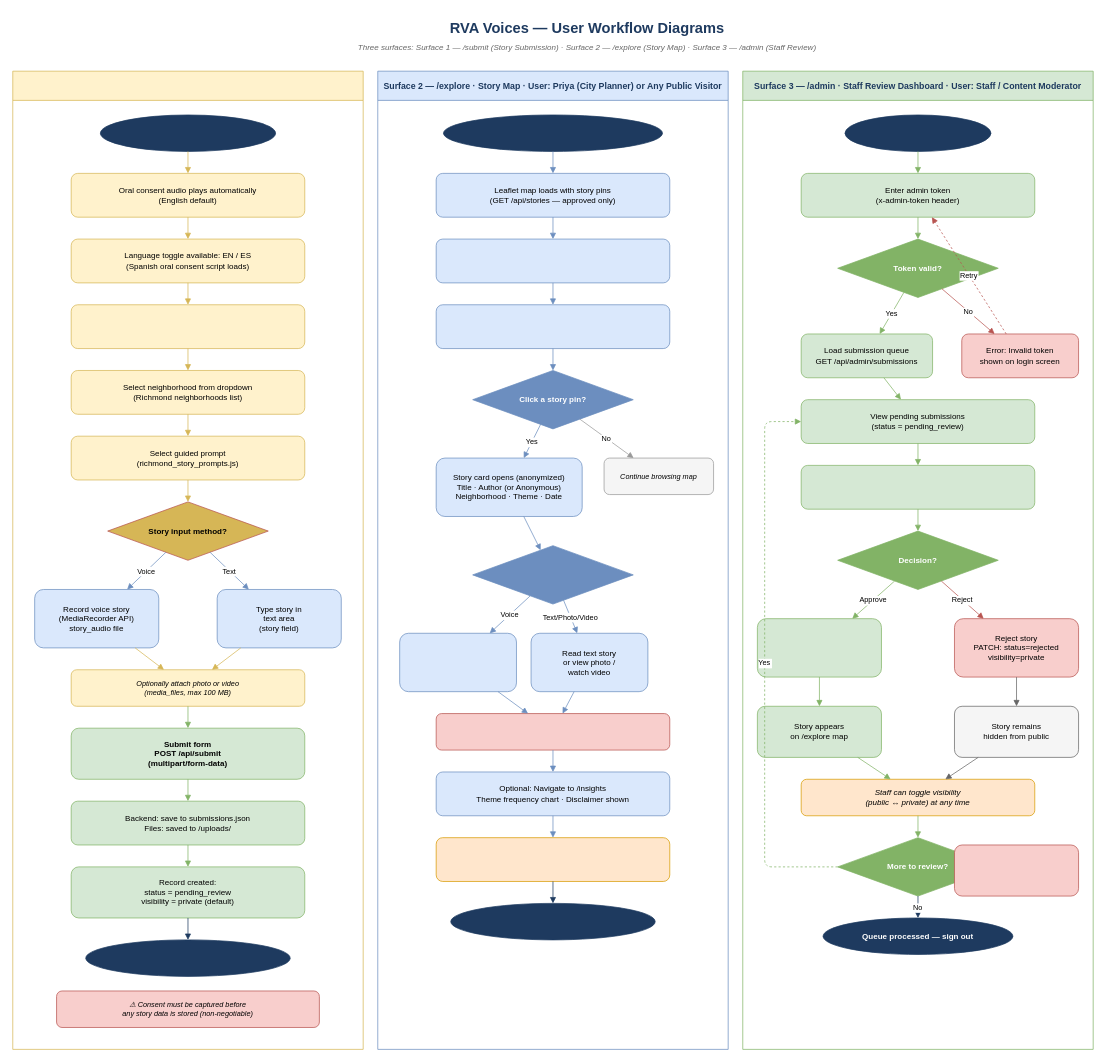
This 1106x1062 diagram has some shape labels left out. Here are the shapes that lost their labels. From the top down, the box of each, then its label:
(100, 114, 276, 151): Resident visits /submit
(443, 114, 662, 151): Public user visits richmondstories.online
(844, 114, 991, 151): Staff visits /admin
(435, 238, 670, 283): Optional: Apply filters Neighborhood · Theme
(70, 304, 305, 349): Resident states name + consent aloud Recording captures this (consent audio)
(435, 304, 670, 349): Featured story banner displays (if featured=true in seed data)
(800, 465, 1035, 509): Expand story details: Text · Audio playback · Image · Coords
(12, 70, 363, 1049): Surface 1 — /submit · Story Submission · User: Dorothy (Resident)
(472, 545, 633, 604): Story type?
(399, 633, 516, 692): Play voice recording (audio player) /uploads/*.webm
(757, 618, 881, 677): Approve story PATCH: status=approved visibility=public
(435, 713, 670, 750): ⚠ No PII displayed — stories are anonymized by default
(435, 837, 670, 881): Disclaimer always shown: "Illustrative prototype — not a representative sample"
(954, 844, 1079, 896): Staff can permanently delete submissions DELETE /api/admin/submissions/{id}
(450, 903, 655, 940): Civic insight delivered to planner
(85, 939, 290, 976): Success message shown to resident
